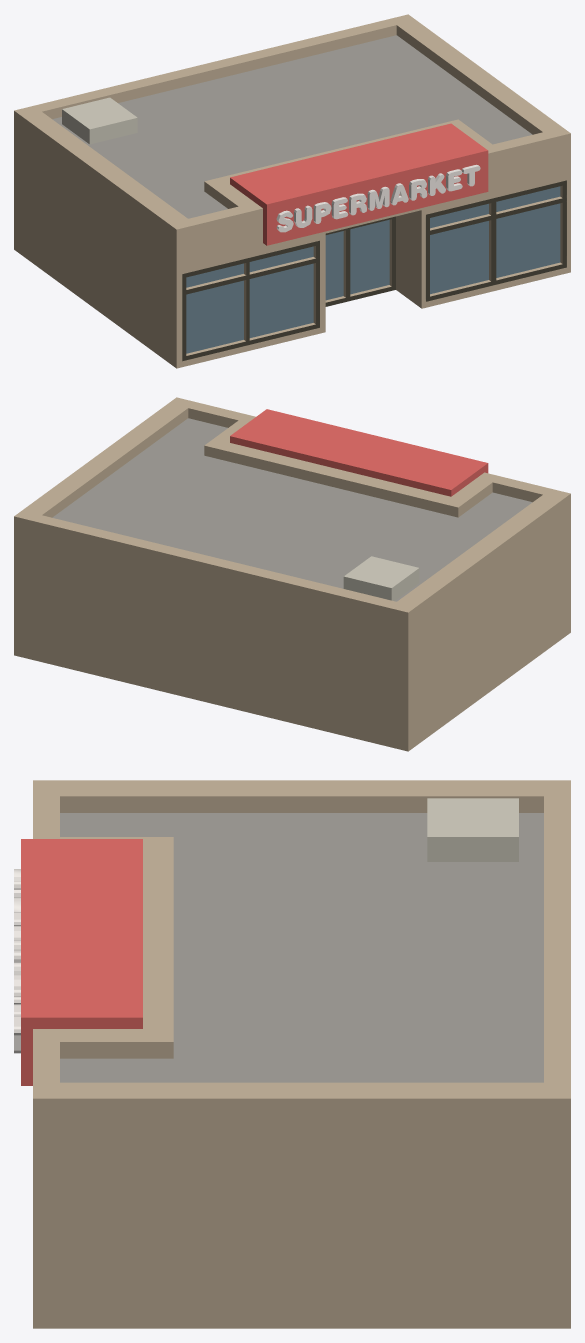
Rendered from Market.fbx.
3 views of the same model, one above another, from view 1: azimuth 30°, elevation 25°; view 2: azimuth 150°, elevation 25°; view 3: azimuth 270°, elevation 25° (orthographic). The views are drawn at different scales.
Visible parts, largest first — view 1: Market; view 2: Market; view 3: Market.
Boxes of the visible parts, x1=… form: Market: x1=14, y1=14, x2=570, y2=368; Market: x1=14, y1=397, x2=570, y2=751; Market: x1=14, y1=780, x2=570, y2=1328.
Bounding box in the file's own units: 1232 × 435 × 911.
